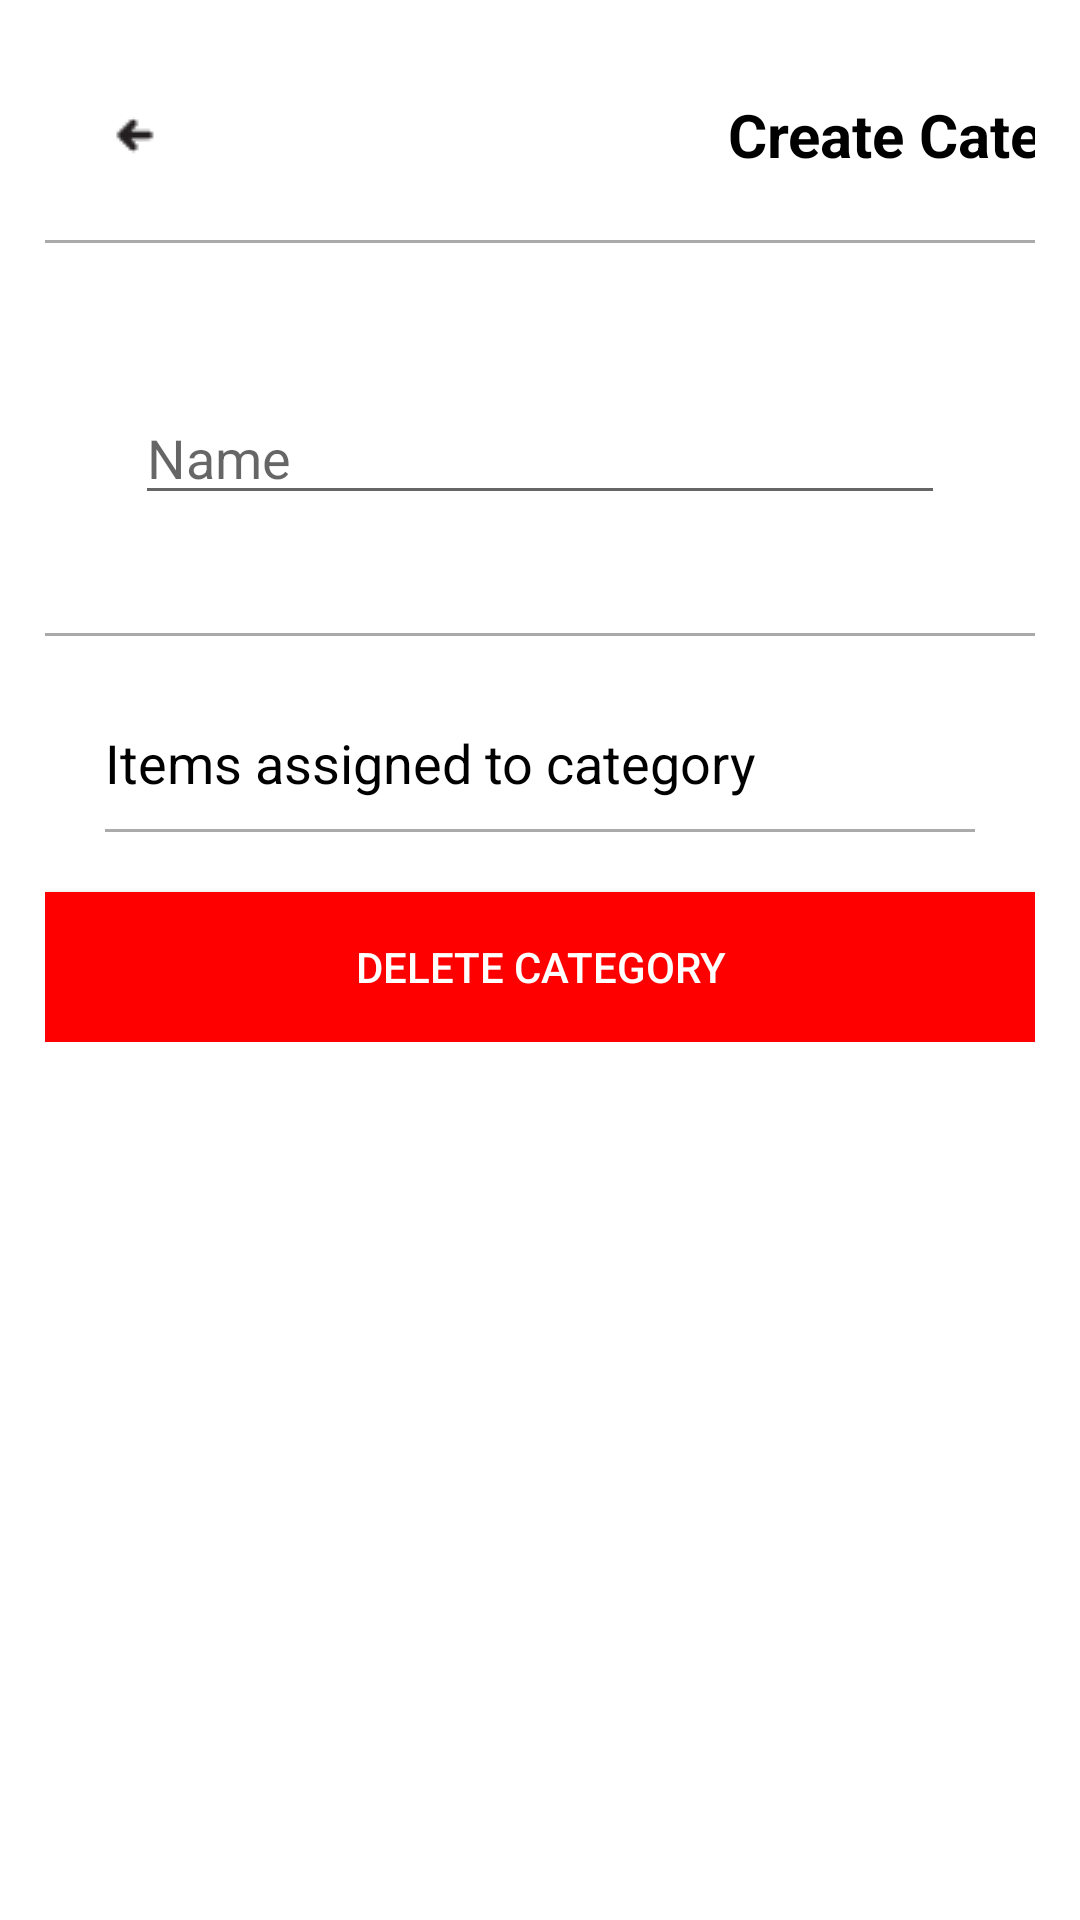

Named icons in this screenshot (1080×1920) and their centers, (x=x, y=y):
arrowleft: (x=135, y=136)
